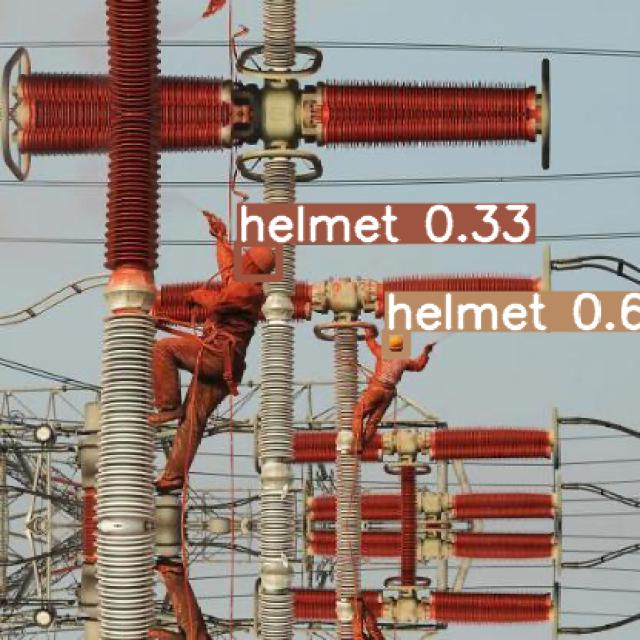helmet: (237, 242, 278, 278), (385, 330, 406, 355)
